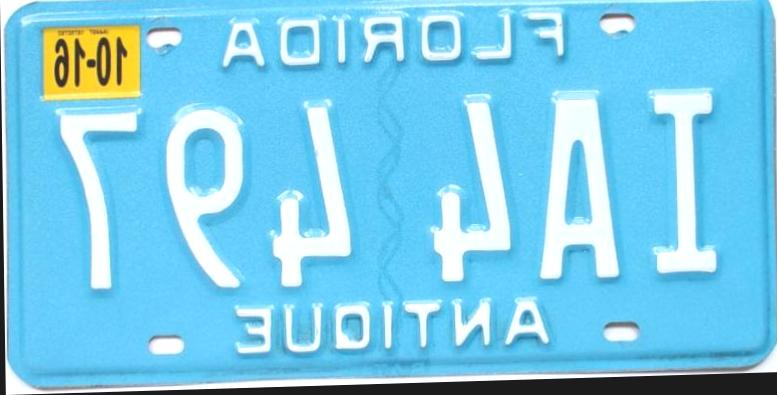License_Plate: (0, 0, 777, 390)
